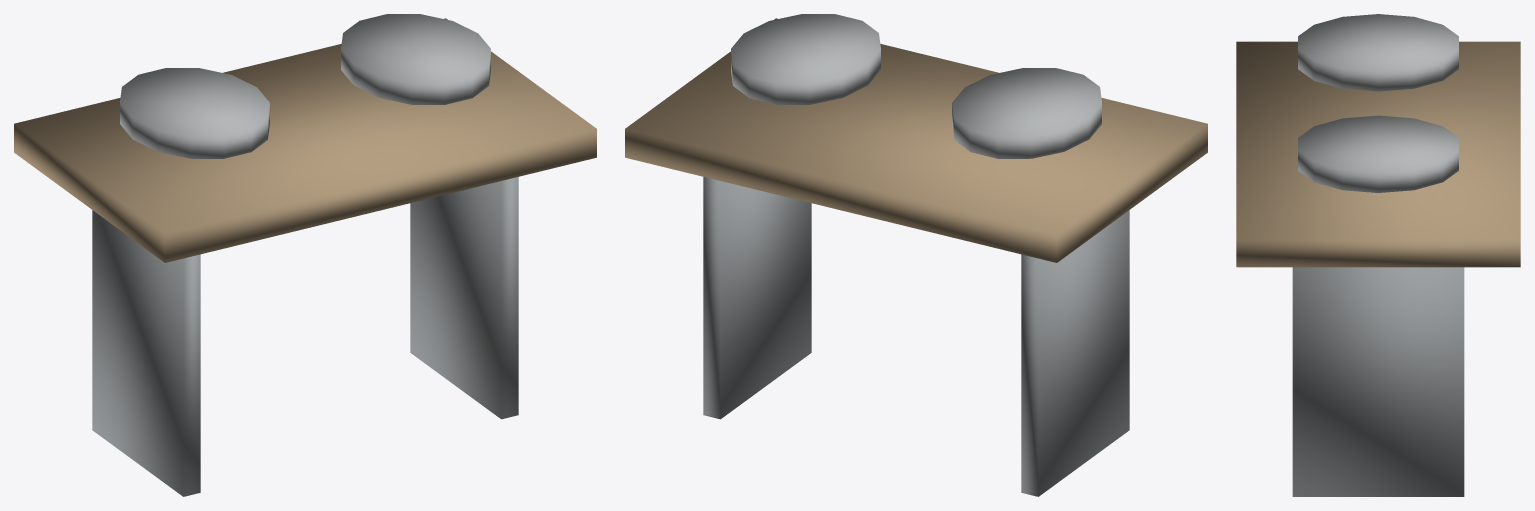
File: projection_rewind_bench__deep.glb
The picture shows the model from 3 angles, left to right: view 1: azimuth 30°, elevation 25°; view 2: azimuth 150°, elevation 25°; view 3: azimuth 270°, elevation 25°; orthographic projection. The views are drawn at different scales.
Parts seen in each view (by area): view 1: world; view 2: world; view 3: world.
Part boxes in pixels (x1,y1,x2,y2): world: (14, 14, 596, 496); world: (625, 14, 1207, 496); world: (1236, 14, 1520, 496).
Bounding box in the file's own units: 1.25 × 0.96 × 0.7564.
